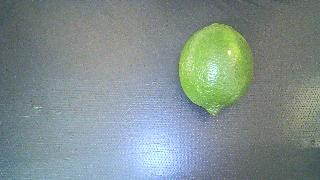EXPORTACION: (179, 23, 253, 116)
